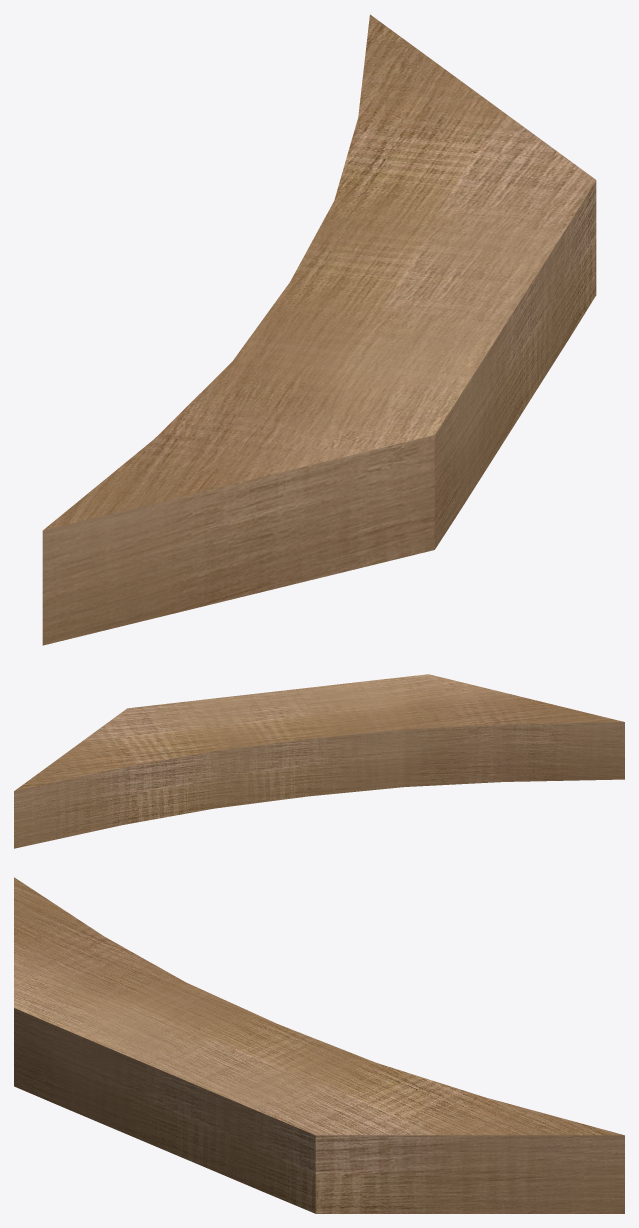
The model's file is knee_brace.glb.
The picture shows the model from 3 angles, top to bottom: view 1: azimuth 30°, elevation 25°; view 2: azimuth 150°, elevation 25°; view 3: azimuth 270°, elevation 25°; orthographic projection. The views are drawn at different scales.
Parts seen in each view (by area): view 1: Brace_Knee.001; view 2: Brace_Knee.001; view 3: Brace_Knee.001.
Boxes of the visible parts, bbox=[...] form: Brace_Knee.001: bbox=[42, 14, 596, 645]; Brace_Knee.001: bbox=[14, 674, 624, 848]; Brace_Knee.001: bbox=[14, 877, 624, 1213].
Size of the model in its own units: 0.4426 by 0.0628 by 0.4426.
Materials: 1 (1 with a texture image).
